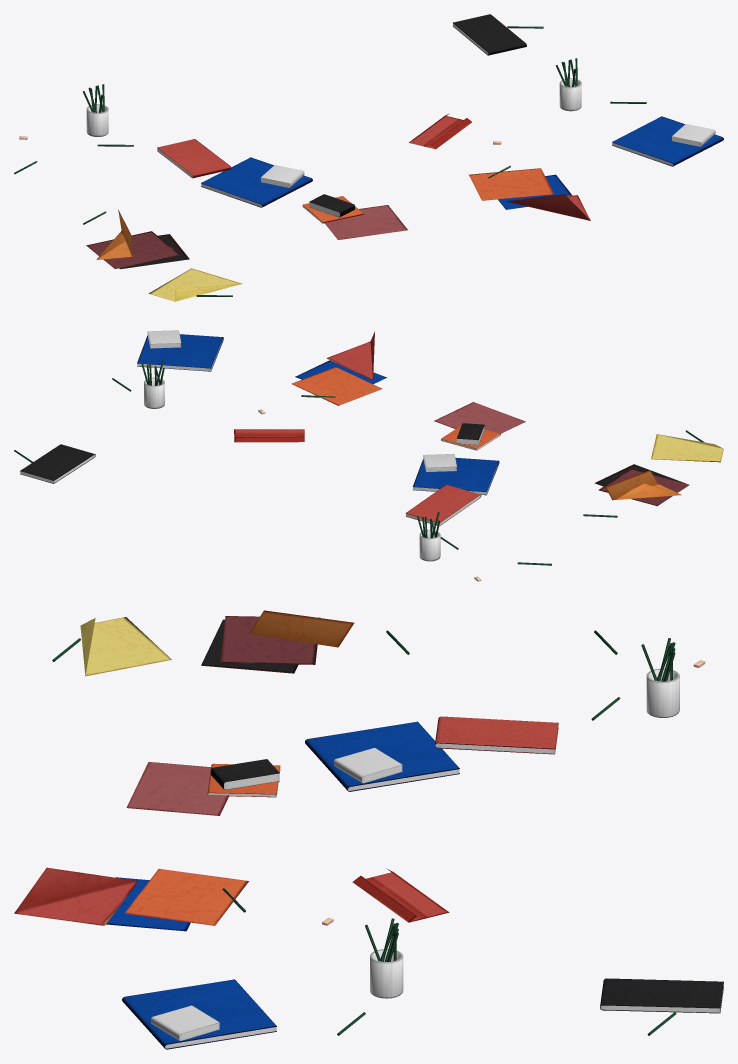
The model's file is pencil_book.fbx.
3 views of the same model, one above another, from view 1: azimuth 30°, elevation 25°; view 2: azimuth 150°, elevation 25°; view 3: azimuth 270°, elevation 25° (orthographic). The views are drawn at different scales.
Parts seen in each view (by area): view 1: paper&penceil6, paper&penceil13, paper&penceil14, paper&penceil9, paper&penceil7, paper&penceil10, paper&penceil8, paper&penceil11, paper&penceil12, paper&penceil2; view 2: paper&penceil6, paper&penceil13, paper&penceil14, paper&penceil9, paper&penceil7, paper&penceil10, paper&penceil8, paper&penceil11, paper&penceil12, paper&penceil2; view 3: paper&penceil6, paper&penceil13, paper&penceil14, paper&penceil7, paper&penceil9, paper&penceil10, paper&penceil8, paper&penceil11, paper&penceil12, paper&penceil2.
Part boxes in pixels (x1,y1,x2,y2): paper&penceil6: [157, 139, 312, 207]; paper&penceil13: [469, 165, 590, 220]; paper&penceil14: [612, 116, 723, 166]; paper&penceil9: [302, 194, 407, 239]; paper&penceil7: [83, 209, 189, 269]; paper&penceil10: [453, 14, 543, 55]; paper&penceil8: [148, 268, 242, 301]; paper&penceil11: [409, 113, 501, 149]; paper&penceil12: [556, 58, 646, 111]; paper&penceil2: [83, 84, 108, 136]; paper&penceil6: [405, 454, 499, 526]; paper&penceil13: [291, 331, 386, 405]; paper&penceil14: [137, 330, 223, 371]; paper&penceil9: [434, 402, 525, 450]; paper&penceil7: [583, 464, 689, 517]; paper&penceil10: [14, 444, 95, 483]; paper&penceil8: [651, 430, 723, 462]; paper&penceil11: [234, 409, 304, 442]; paper&penceil12: [112, 359, 164, 408]; paper&penceil2: [417, 512, 440, 561]; paper&penceil6: [305, 716, 558, 791]; paper&penceil13: [14, 867, 248, 931]; paper&penceil14: [122, 979, 276, 1049]; paper&penceil7: [201, 610, 409, 673]; paper&penceil9: [126, 759, 280, 815]; paper&penceil10: [600, 978, 723, 1035]; paper&penceil8: [52, 617, 171, 676]; paper&penceil11: [322, 868, 449, 925]; paper&penceil12: [337, 918, 403, 1035]; paper&penceil2: [641, 638, 679, 717].
Size of the model in its own units: 36.23 by 2.57 by 24.87.
